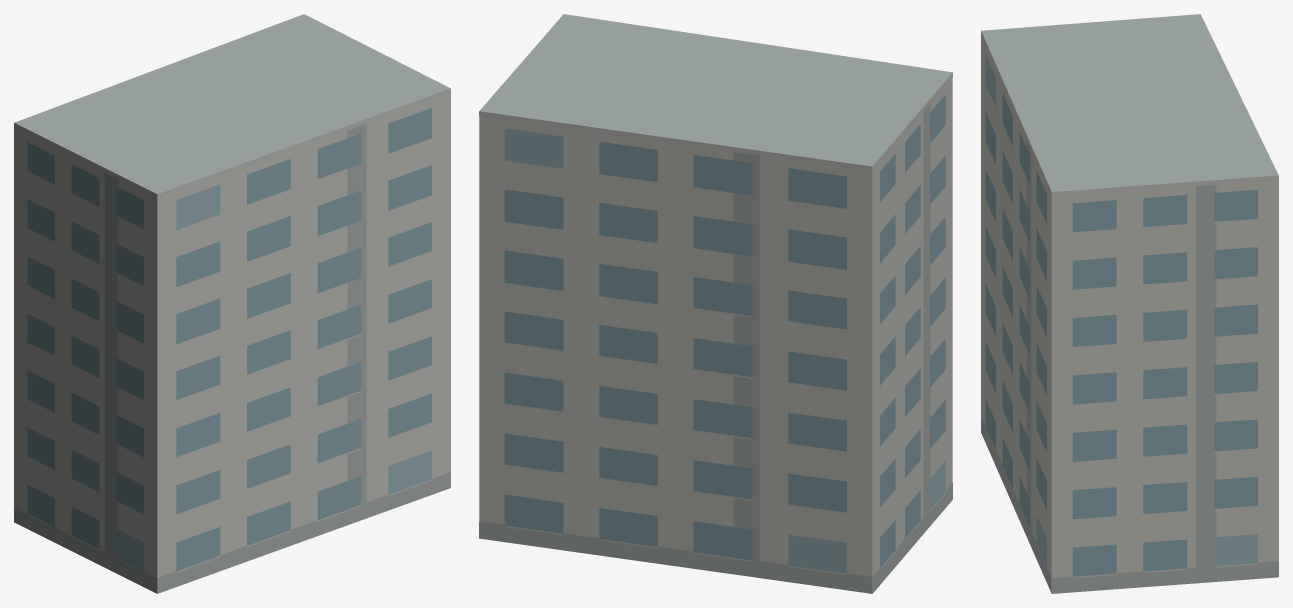
The model's file is survey-upis-32958952.glb.
3 views of the same model, side by side, from view 1: azimuth 30°, elevation 25°; view 2: azimuth 150°, elevation 25°; view 3: azimuth 270°, elevation 25° (orthographic). The views are drawn at different scales.
Visible parts, largest first — view 1: survey-upis-32958952.tmp; view 2: survey-upis-32958952.tmp; view 3: survey-upis-32958952.tmp.
Boxes of the visible parts, x1=… form: survey-upis-32958952.tmp: x1=14, y1=14, x2=450, y2=593; survey-upis-32958952.tmp: x1=479, y1=14, x2=952, y2=593; survey-upis-32958952.tmp: x1=981, y1=14, x2=1278, y2=593.
Bounding box in the file's own units: 19.68 × 20.7 × 13.91.
